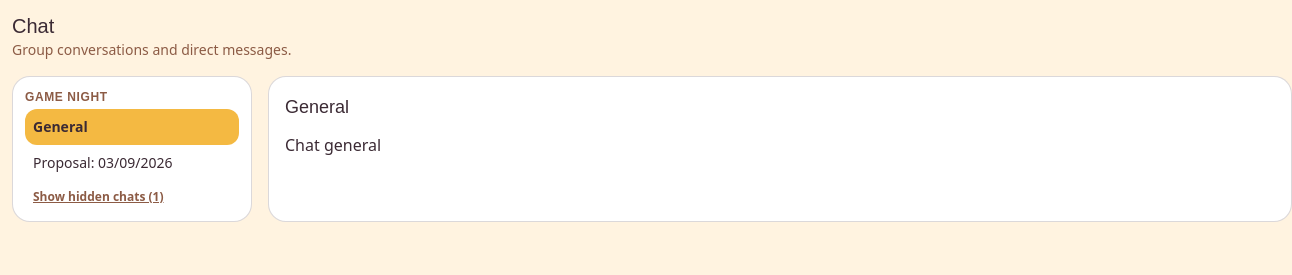
GroupChatView › shows proposal chats in group mode and hides ones over a week old
The image size is (1292, 275).
Check: the button "Proposal: 03/09/2026" is shown, box [25,145,239,181]
Check: the button "Proposal: 01/09/2026" is not shown
Click the button "Show hidden chats (1)". click: (132, 197)
box: [25,185,239,209]
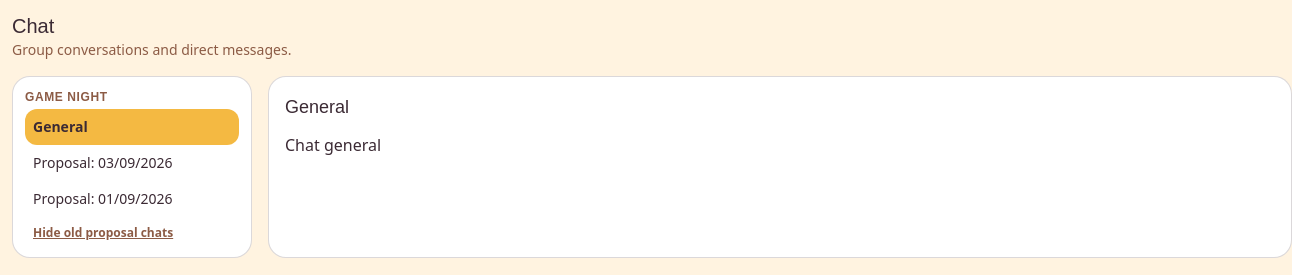
Check: the button "Proposal: 01/09/2026" is shown, box [25,181,239,217]
